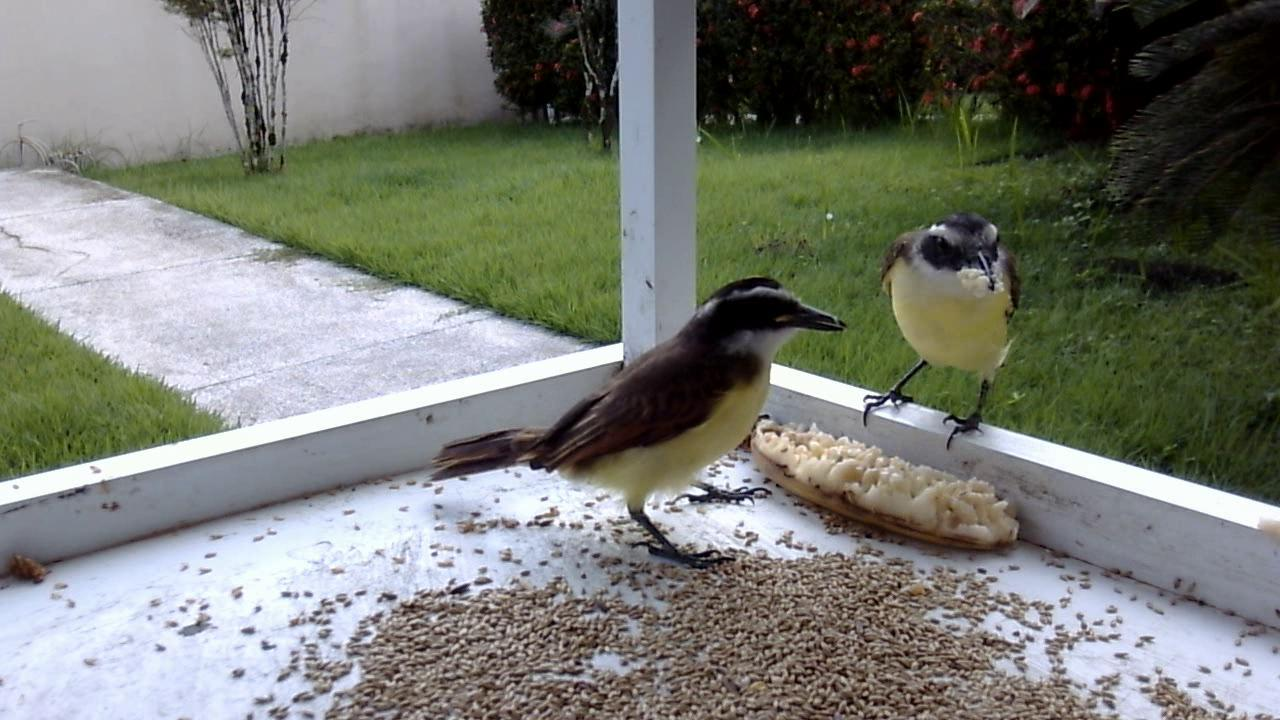bem_te_vi: (408, 261, 858, 587), (857, 210, 1028, 451)
